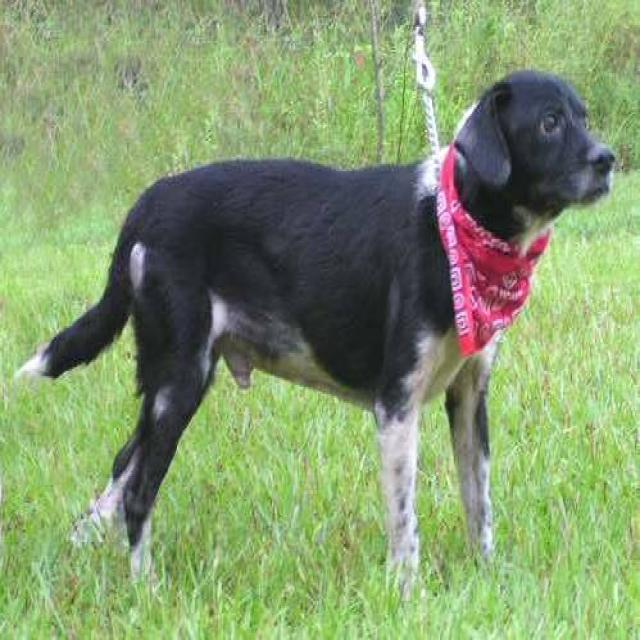Dog: (457, 64, 620, 225)
